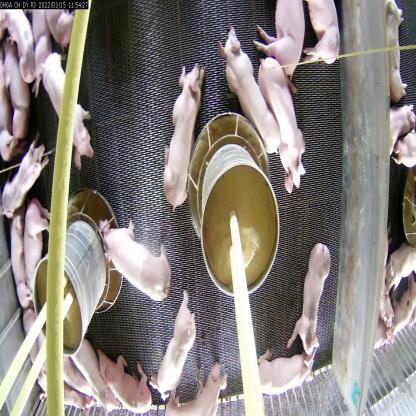Pig: (222, 22, 273, 162), (103, 209, 171, 308), (160, 59, 203, 200), (260, 52, 299, 196), (42, 44, 92, 155), (146, 297, 192, 387), (0, 140, 52, 218), (15, 200, 58, 294), (86, 333, 140, 398), (298, 236, 325, 350), (257, 0, 300, 66), (249, 342, 308, 388), (167, 365, 219, 415), (5, 0, 36, 72), (9, 212, 36, 294)
